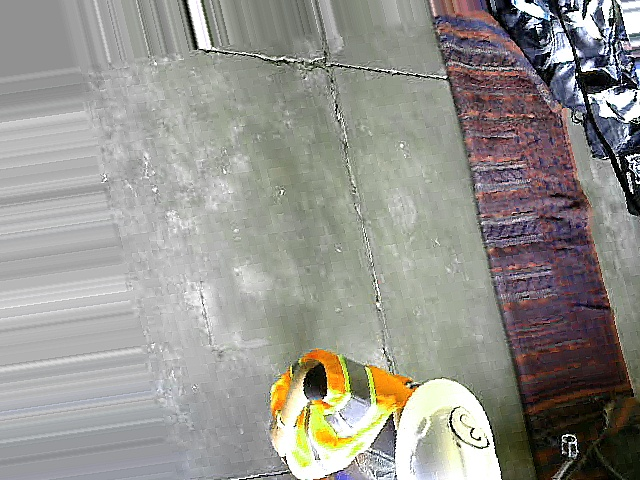three: (446, 402, 492, 454)
